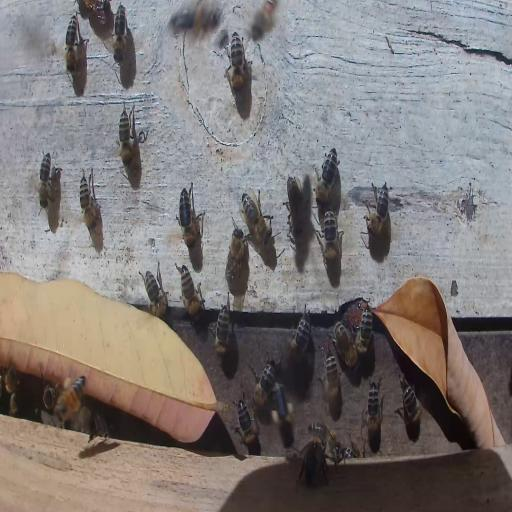bee: (240, 187, 274, 244), (176, 182, 204, 248), (169, 2, 220, 36), (55, 372, 88, 422), (272, 382, 296, 450), (288, 306, 312, 368), (250, 353, 277, 407), (140, 262, 168, 314), (365, 180, 391, 236), (285, 174, 306, 242), (313, 148, 338, 204), (306, 423, 342, 461), (249, 0, 278, 47), (178, 266, 204, 318), (79, 166, 99, 233), (236, 398, 260, 453), (321, 350, 342, 412), (398, 378, 422, 430), (299, 443, 326, 489), (225, 225, 246, 284), (365, 375, 383, 440), (118, 101, 135, 168), (334, 324, 358, 370), (209, 300, 230, 352), (320, 210, 340, 262), (229, 30, 244, 94), (343, 302, 372, 335), (112, 3, 127, 64), (38, 150, 52, 209), (66, 14, 78, 76), (359, 302, 372, 354), (42, 383, 58, 413), (4, 367, 20, 397), (93, 413, 110, 439), (344, 436, 361, 458)
